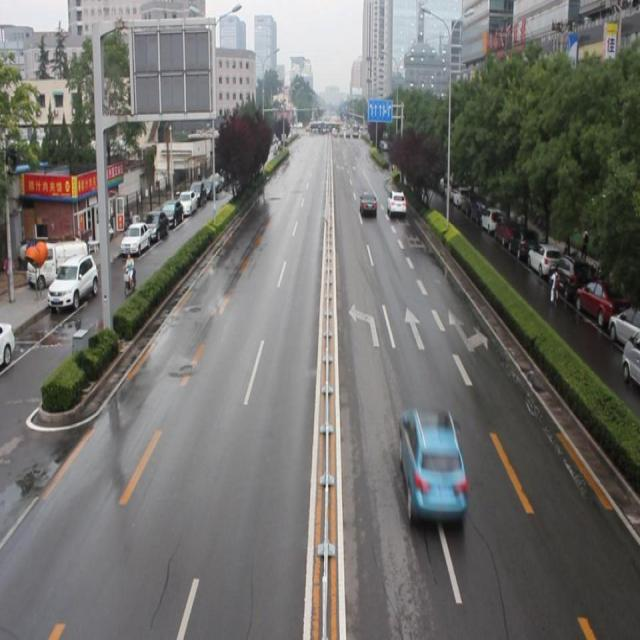car: (398, 410, 467, 526), (358, 189, 377, 216), (386, 189, 405, 215)
